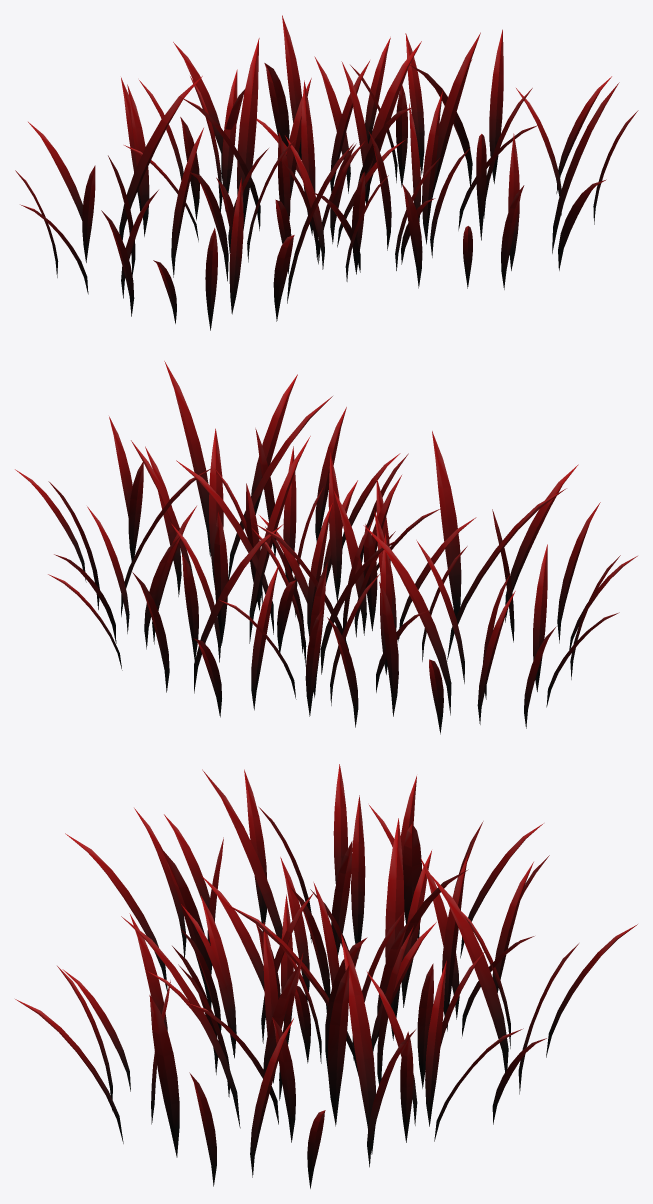
Rendered from Grass.fbx.
3 renders of one model, top to bottom at view 1: azimuth 30°, elevation 25°; view 2: azimuth 150°, elevation 25°; view 3: azimuth 270°, elevation 25°, orthographic. The views are drawn at different scales.
Parts seen in each view (by area): view 1: Grass; view 2: Grass; view 3: Grass.
Part boxes in pixels (x1,y1,x2,y2): Grass: (15,15,638,330); Grass: (15,361,637,734); Grass: (15,764,637,1188).
Size of the model in its own units: 724 by 198 by 571.
